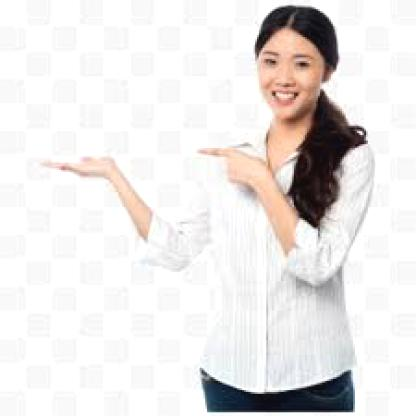Right: (183, 134, 270, 192)
